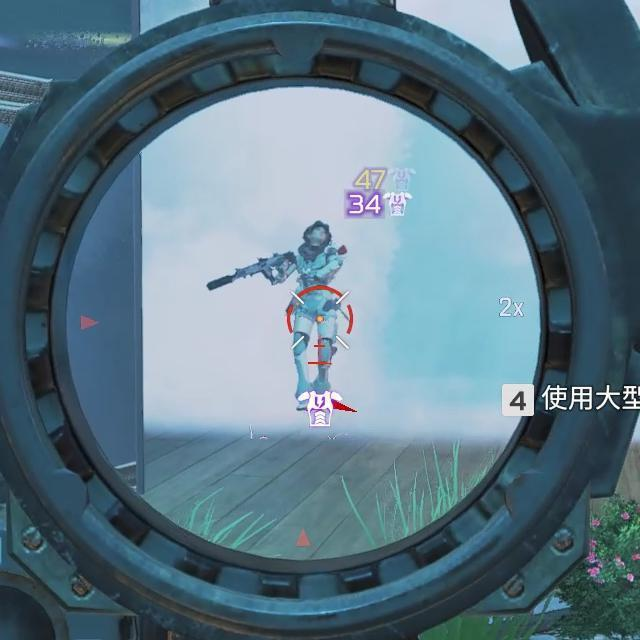avatar: (283, 219, 347, 413)
